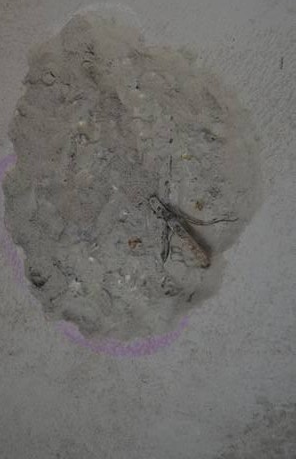Exposed reinforcement: (148, 196, 210, 266)
Spalling: (1, 2, 267, 343)
